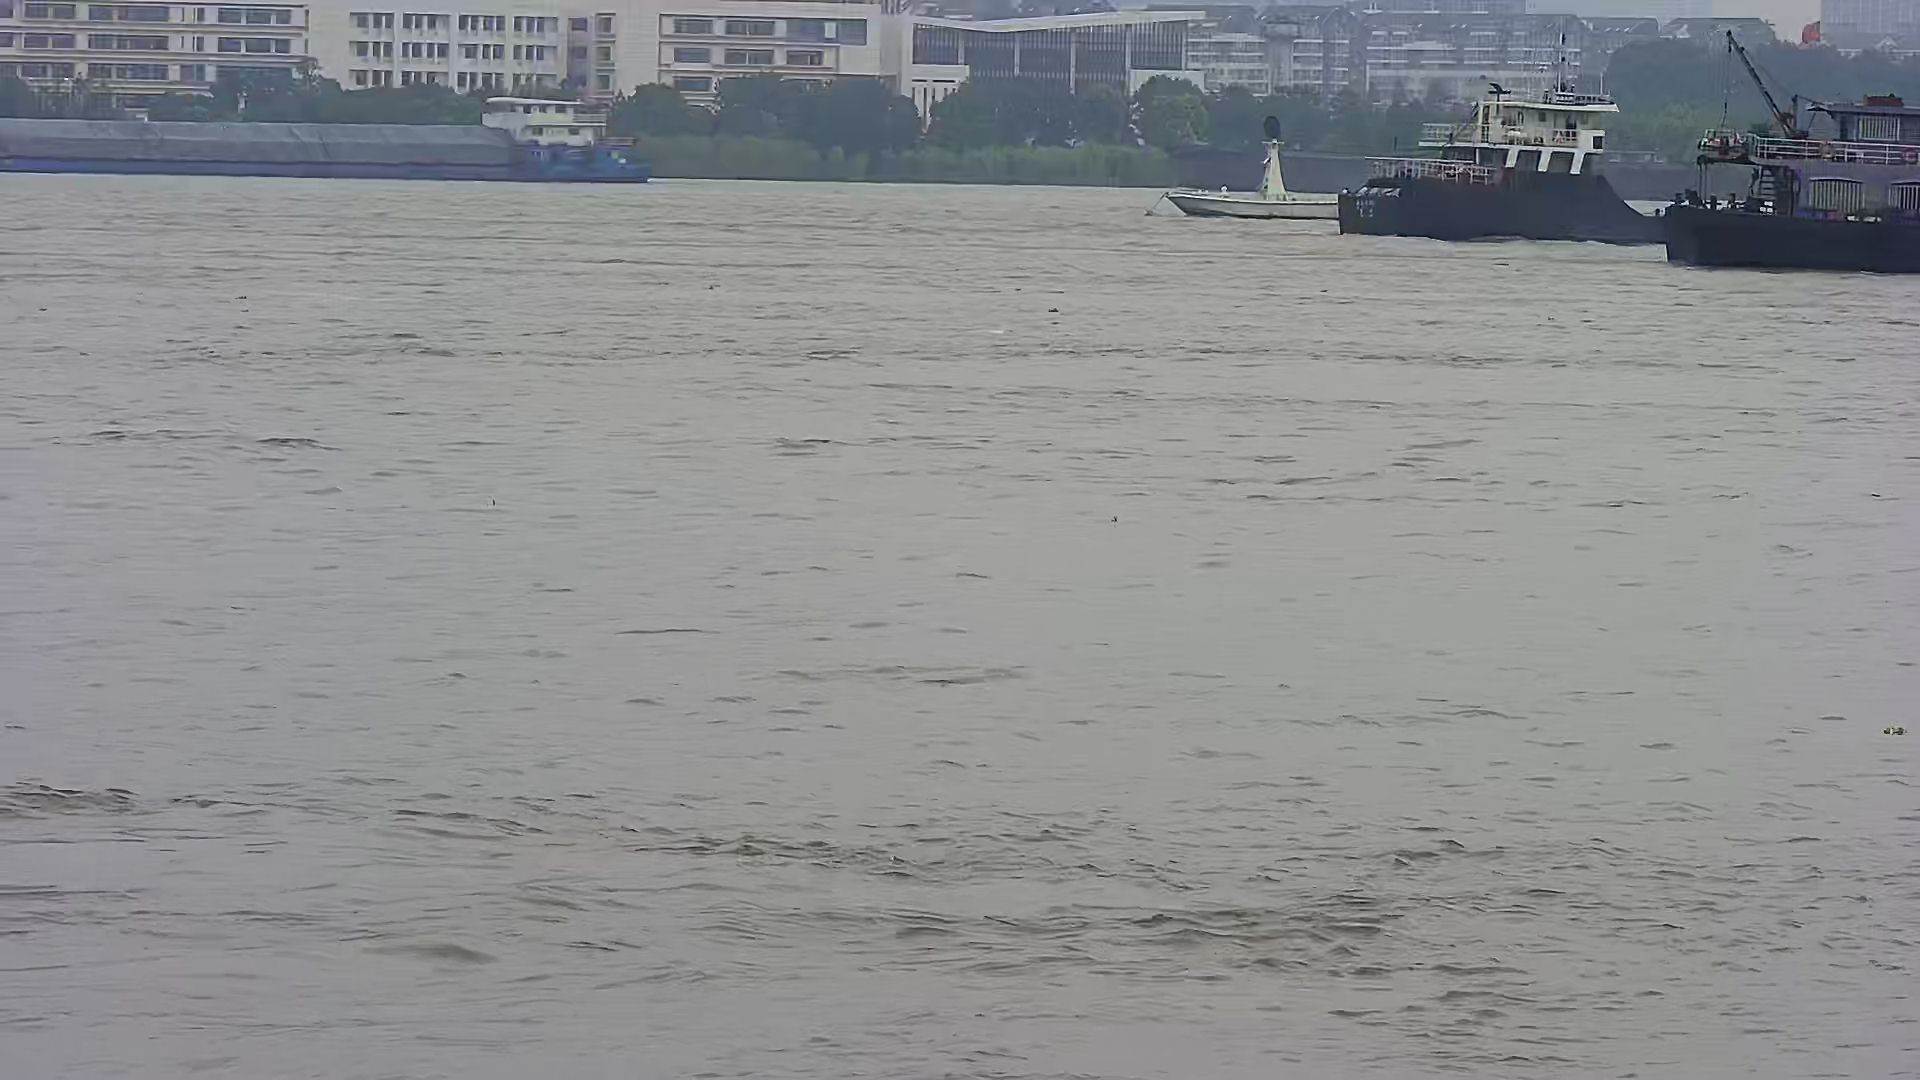boat: (1158, 107, 1346, 229)
ship: (1, 84, 674, 191), (1337, 22, 1662, 243), (1654, 18, 1920, 277)
